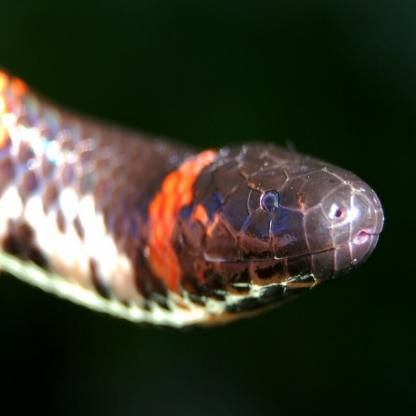Snake: (2, 73, 387, 329)
